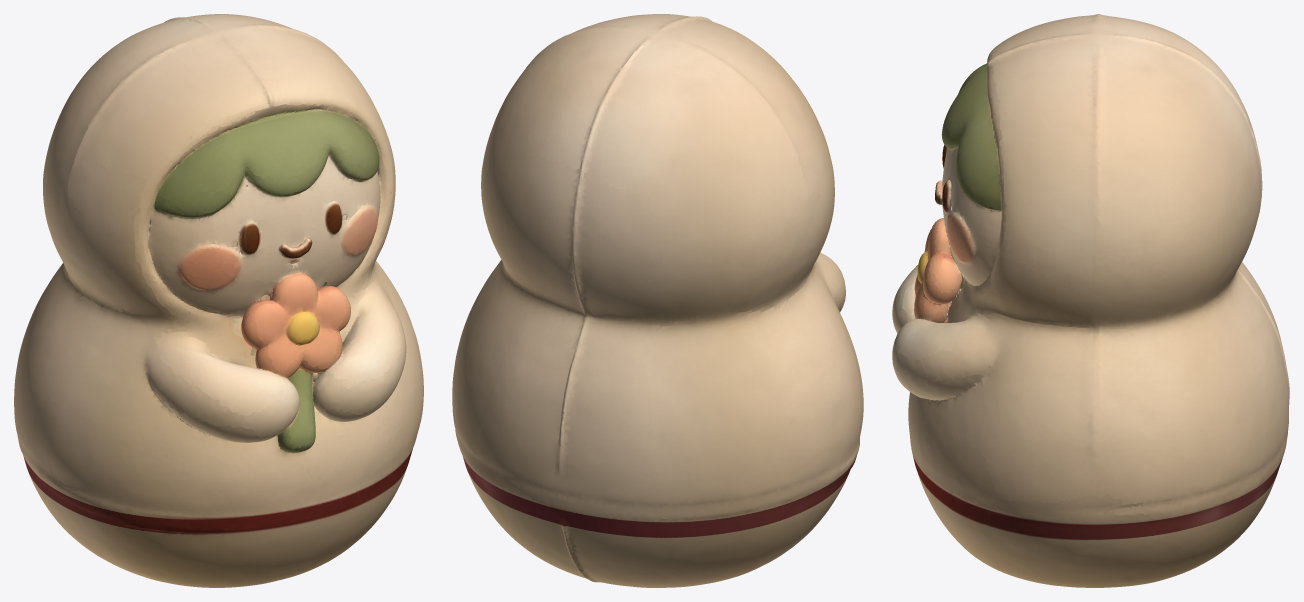
3 renders of one model, left to right at view 1: azimuth 30°, elevation 25°; view 2: azimuth 150°, elevation 25°; view 3: azimuth 270°, elevation 25°, orthographic.
Visible parts, largest first — view 1: geometry_0; view 2: geometry_0; view 3: geometry_0.
Boxes of the visible parts, box(x1,y1,x2,y2) form: geometry_0: box(14, 14, 423, 587); geometry_0: box(452, 14, 863, 587); geometry_0: box(892, 14, 1289, 587).
Bounding box in the file's own units: 0.1107 × 0.15 × 0.1059.
Materials: 2 (2 with a texture image).
